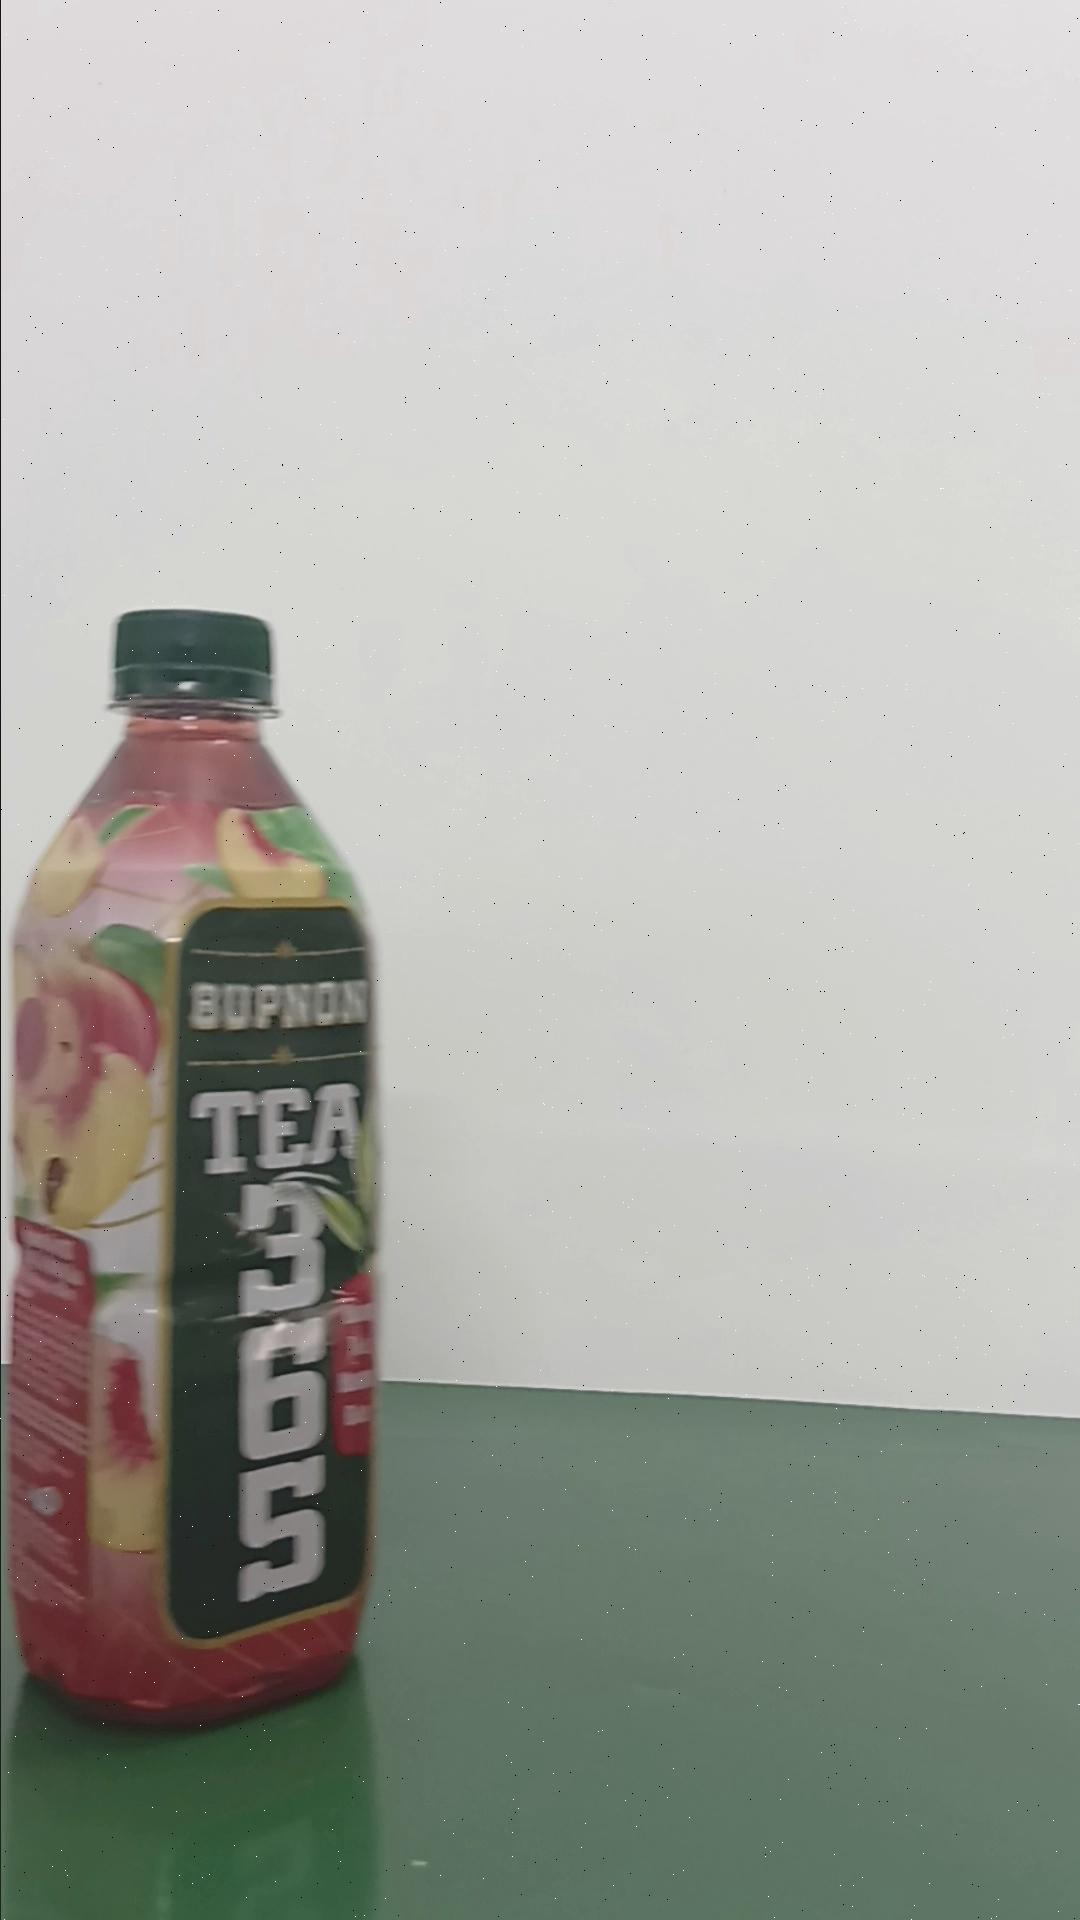loi rach va lap chai: (7, 607, 382, 1734)
